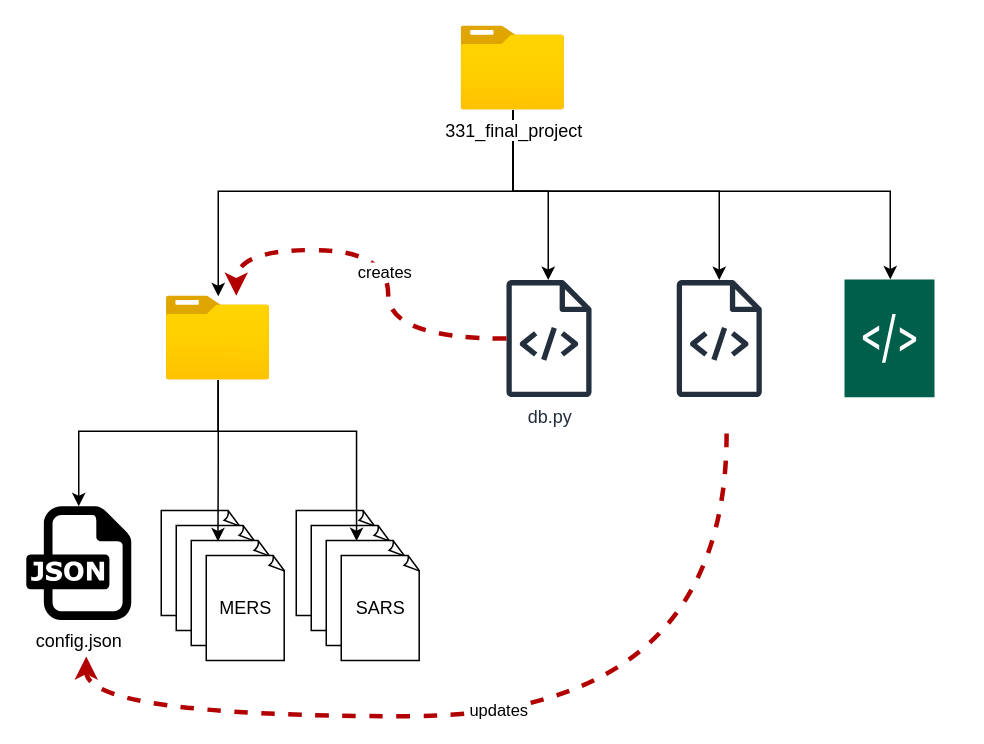
Some shapes in this 984 by 744 pixel diagram are drawn without their labels. The shapes that lost their labels are listed below. From the top down, each one's box as (x1, y1, x2, y2) in pixels, then its label:
(166, 296, 269, 380): jbrowse2
(676, 279, 761, 396): fix_config.py
(844, 279, 934, 396): dependencies.sh
